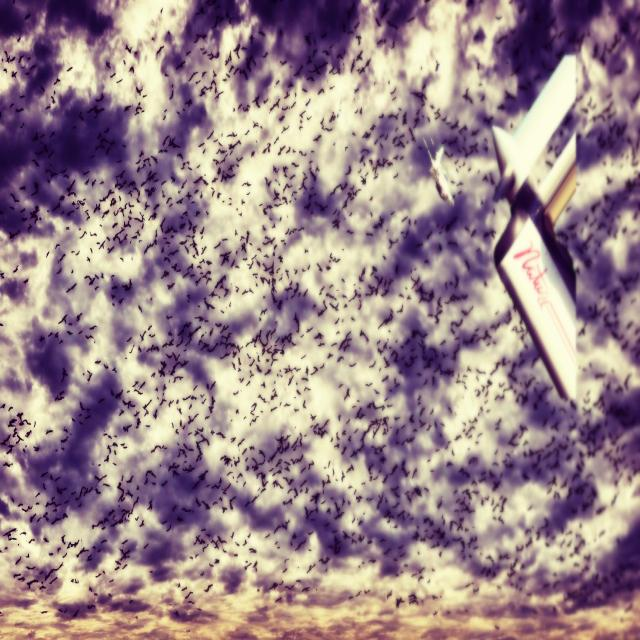airplane: (490, 52, 580, 402), (422, 137, 453, 206)
